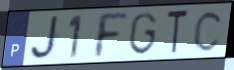1: (67, 13, 85, 60)
C: (191, 9, 225, 54)
F: (94, 11, 130, 60)
G: (127, 11, 159, 57)
J: (29, 14, 62, 62)
T: (166, 8, 191, 57)
